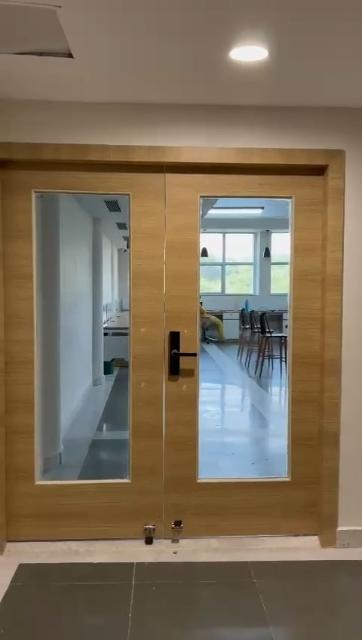door: (0, 135, 342, 527)
floor: (0, 540, 362, 640)
